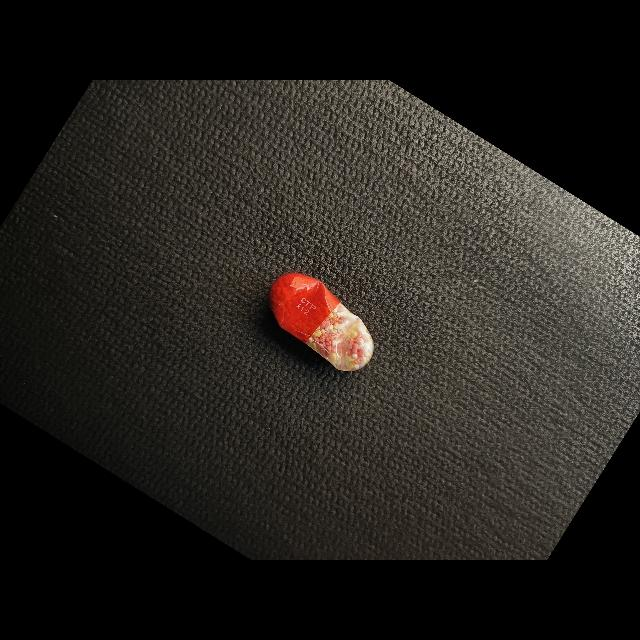Defective Capsule: (269, 273, 374, 371)
